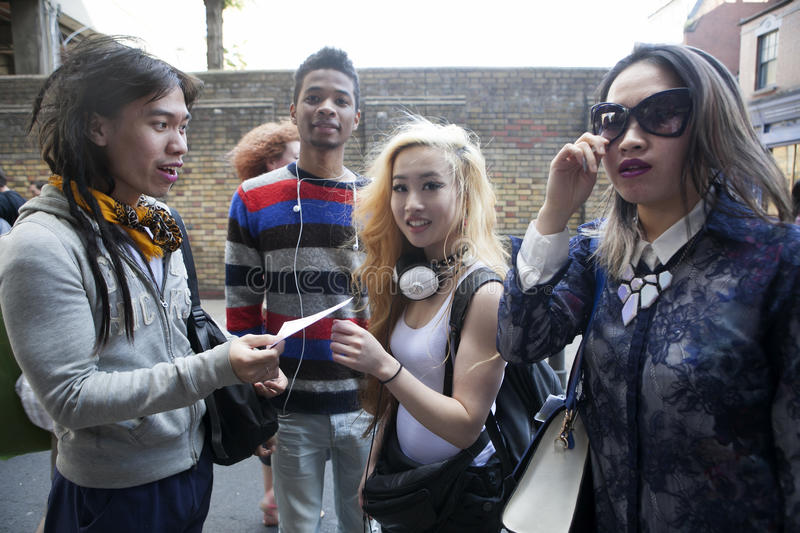without_mask: (592, 83, 703, 203), (104, 77, 191, 203), (388, 151, 462, 251), (295, 74, 358, 150)
